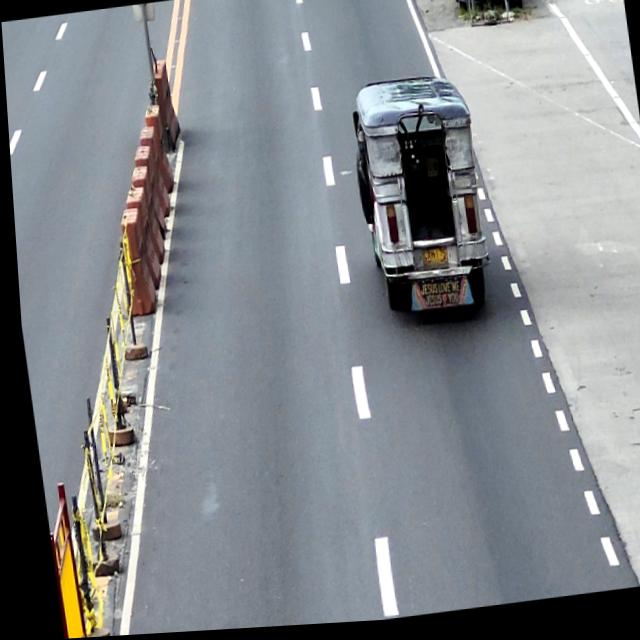Jeep: (342, 72, 491, 325)
License-Plate: (415, 249, 445, 270)
